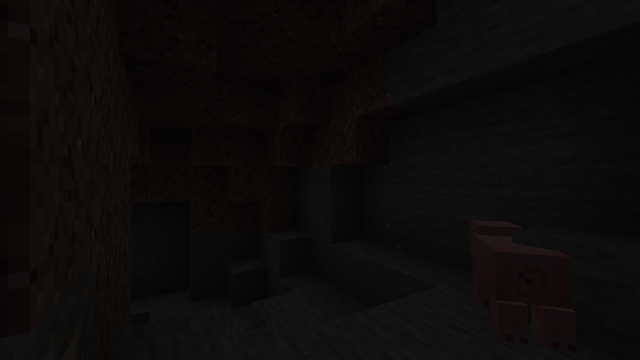cochons: (453, 230, 561, 350)
